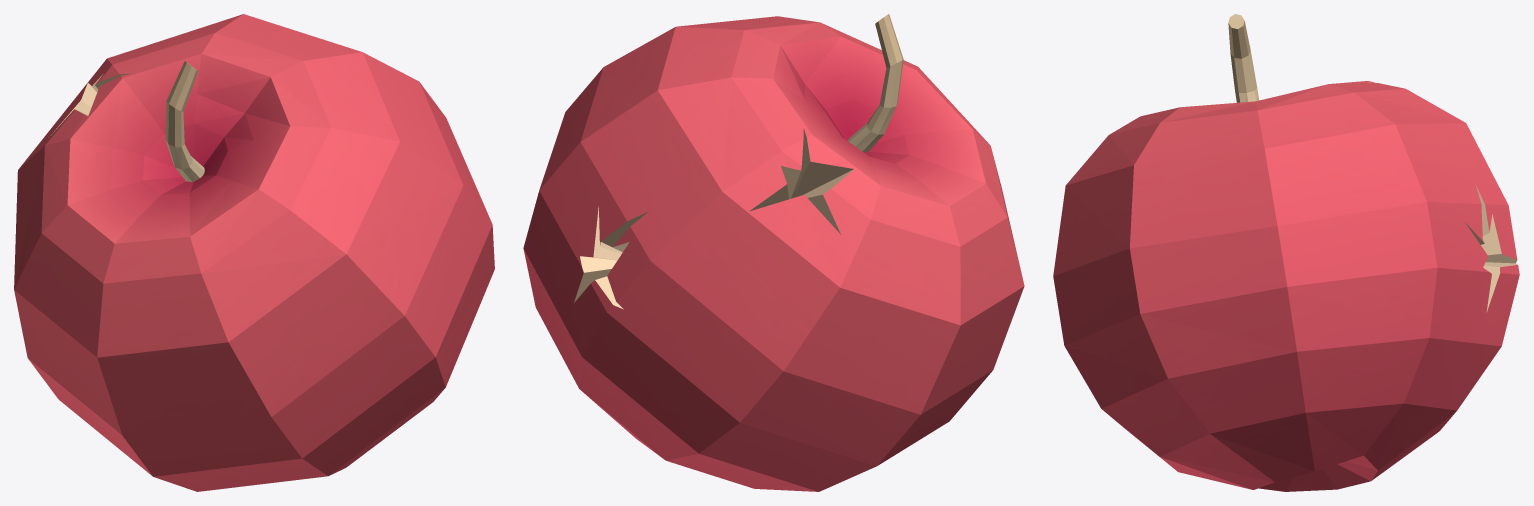
Rendered from SM_Punctured_Apple.fbx.
The picture shows the model from 3 angles, left to right: view 1: azimuth 30°, elevation 25°; view 2: azimuth 150°, elevation 25°; view 3: azimuth 270°, elevation 25°; orthographic projection. The views are drawn at different scales.
Visible parts, largest first — view 1: SM_Punctured_Apple; view 2: SM_Punctured_Apple; view 3: SM_Punctured_Apple.
Part boxes in pixels (x1=…): SM_Punctured_Apple: x1=14, y1=14, x2=494, y2=491; SM_Punctured_Apple: x1=523, y1=14, x2=1024, y2=491; SM_Punctured_Apple: x1=1053, y1=14, x2=1519, y2=491.
Size of the model in its own units: 0.0816 by 0.082 by 0.0821.
